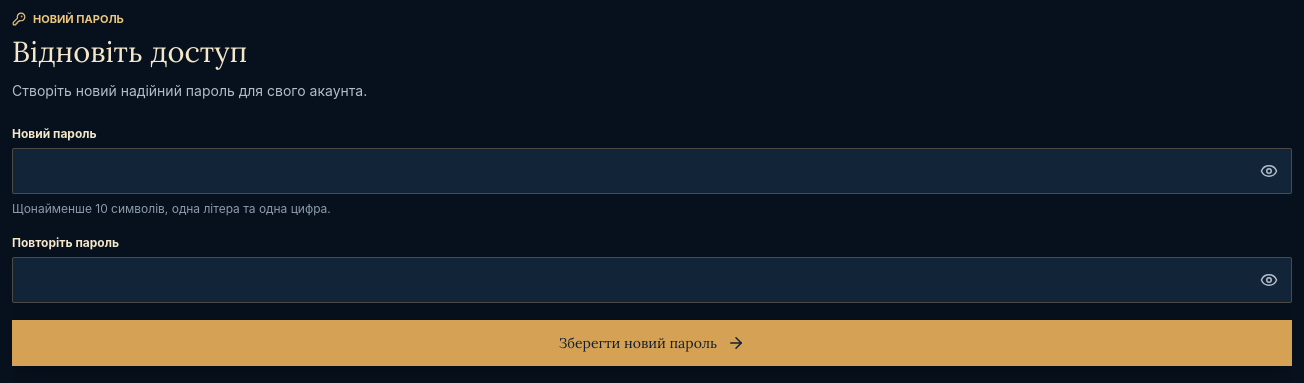
Test: password recovery › submits a new password with the opaque token
In the password field labelled "Новий пароль": (652, 172) [12,148,1292,194], type "Secret1234"
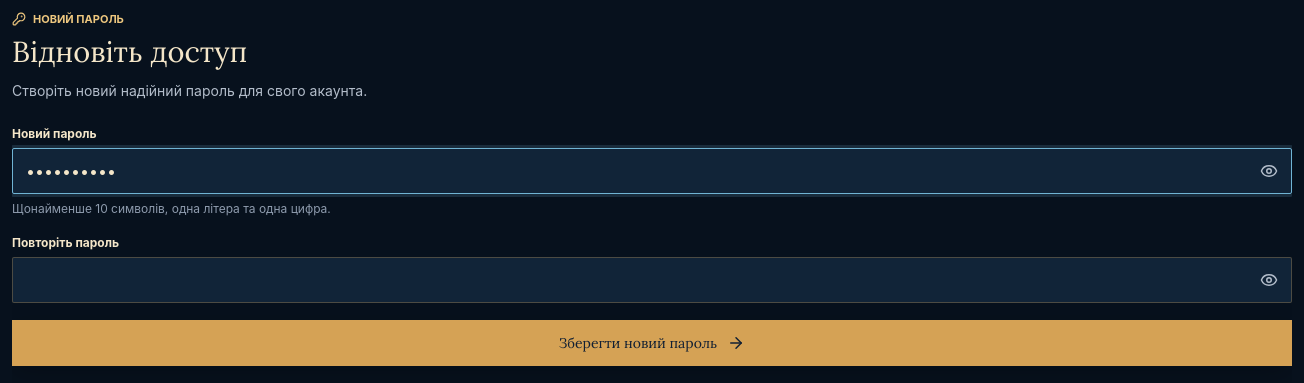
In the password field labelled "Повторіть пароль": (652, 280) [12,257,1292,303], type "Secret1234"
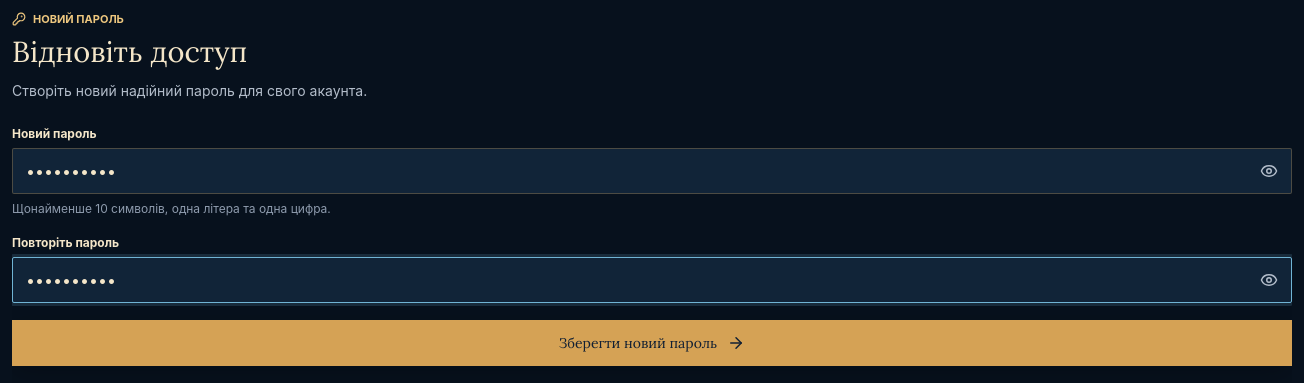
Click the button "Зберегти новий пароль": (652, 343) [12,320,1292,366]
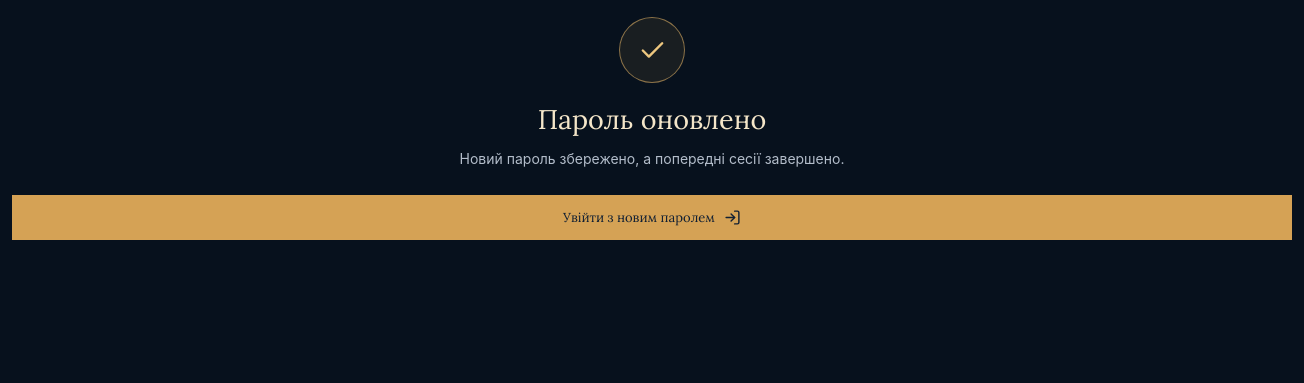
Check: the heading "Пароль оновлено" is shown, box [538,103,766,136]
